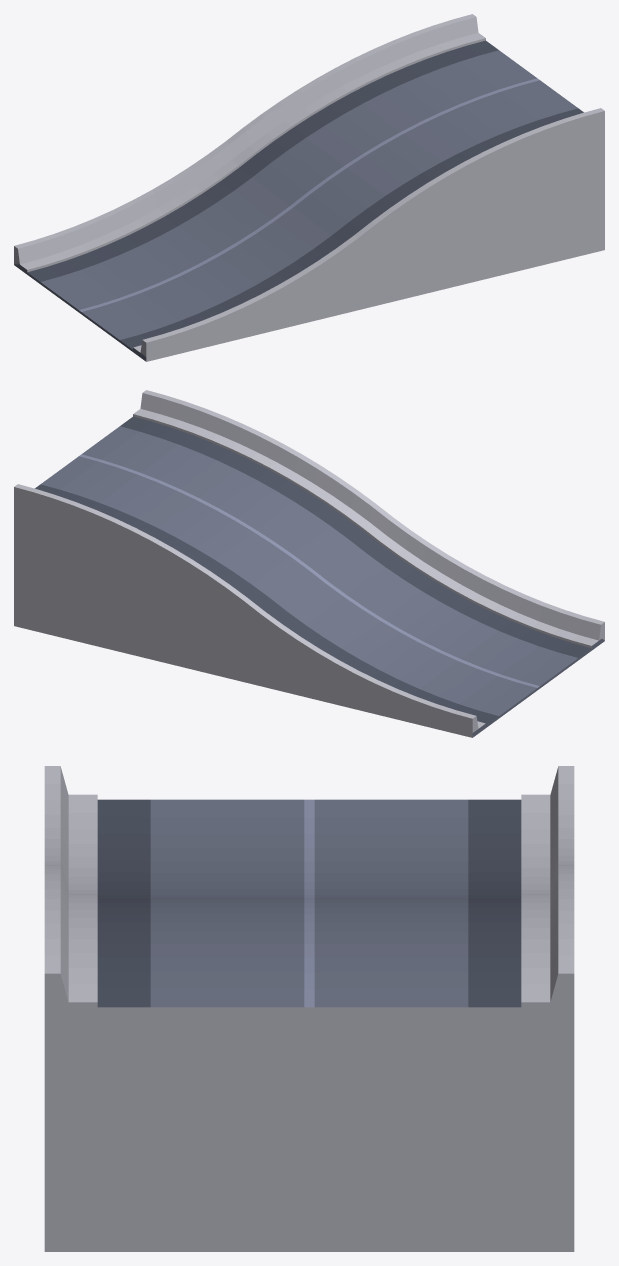
Rendered from road_slantCurve.glb.
The picture shows the model from 3 angles, top to bottom: view 1: azimuth 30°, elevation 25°; view 2: azimuth 150°, elevation 25°; view 3: azimuth 270°, elevation 25°; orthographic projection. The views are drawn at different scales.
Visible parts, largest first — view 1: road_slantCurve_be3998, road_slantCurve_abc06a, road_slantCurve_412a71, road_slantCurve_5c9f2f, road_slantCurve_9ac404; view 2: road_slantCurve_be3998, road_slantCurve_abc06a, road_slantCurve_412a71, road_slantCurve_5c9f2f, road_slantCurve_9ac404; view 3: road_slantCurve_abc06a, road_slantCurve_be3998, road_slantCurve_5c9f2f, road_slantCurve_412a71, road_slantCurve_9ac404.
Part boxes in pixels (left/top/right/bottom): road_slantCurve_be3998: left=14, top=50, right=577, bottom=361; road_slantCurve_abc06a: left=20, top=33, right=604, bottom=361; road_slantCurve_412a71: left=14, top=14, right=604, bottom=361; road_slantCurve_5c9f2f: left=27, top=40, right=583, bottom=349; road_slantCurve_9ac404: left=79, top=78, right=539, bottom=311; road_slantCurve_be3998: left=41, top=426, right=604, bottom=737; road_slantCurve_abc06a: left=14, top=409, right=598, bottom=737; road_slantCurve_412a71: left=14, top=390, right=604, bottom=737; road_slantCurve_5c9f2f: left=35, top=416, right=591, bottom=725; road_slantCurve_9ac404: left=79, top=454, right=539, bottom=687; road_slantCurve_abc06a: left=44, top=794, right=574, bottom=1251; road_slantCurve_be3998: left=150, top=799, right=468, bottom=1007; road_slantCurve_5c9f2f: left=97, top=799, right=521, bottom=1007; road_slantCurve_412a71: left=44, top=766, right=574, bottom=1011; road_slantCurve_9ac404: left=304, top=799, right=314, bottom=1007.
Size of the model in its own units: 2 by 0.58 by 1.
